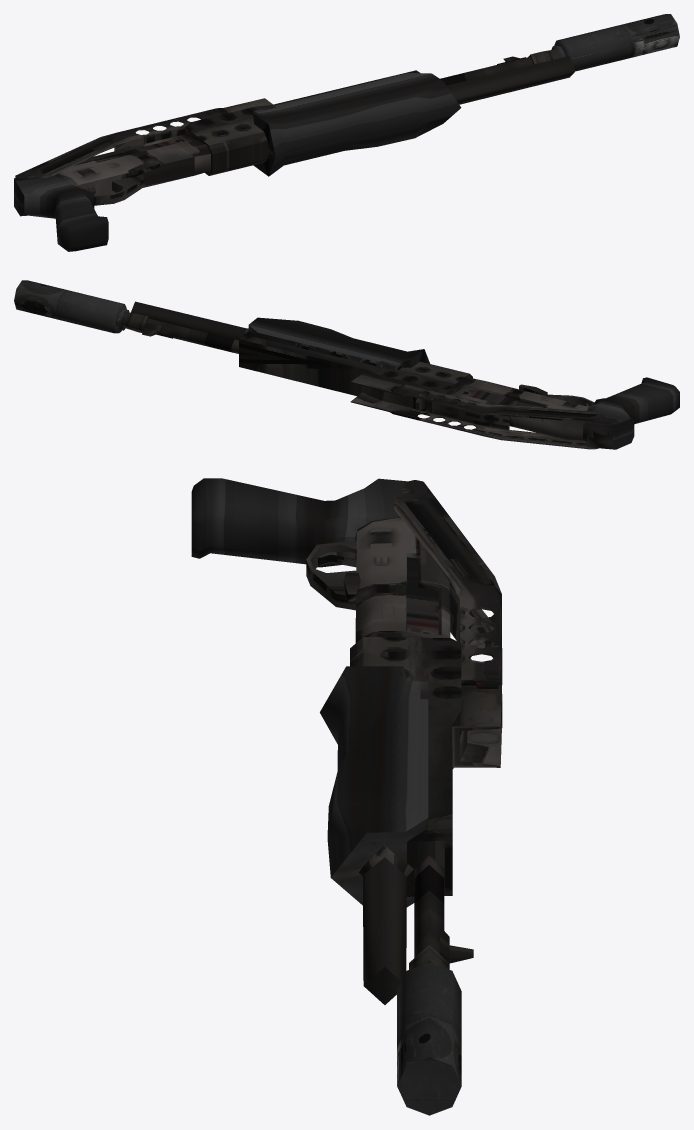
File: t5_weapon_spas_world.glb
3 renders of one model, top to bottom at view 1: azimuth 30°, elevation 25°; view 2: azimuth 150°, elevation 25°; view 3: azimuth 270°, elevation 25°, orthographic. The views are drawn at different scales.
Parts seen in each view (by area): view 1: t5_weapon_spas_world; view 2: t5_weapon_spas_world; view 3: t5_weapon_spas_world.
Part boxes in pixels (x1,y1,x2,y2): t5_weapon_spas_world: (14,14,679,251); t5_weapon_spas_world: (14,280,679,449); t5_weapon_spas_world: (191,478,502,1115).
Size of the model in its own units: 1 by 0.0746 by 0.2245.
Materials: 3 (3 with a texture image).
